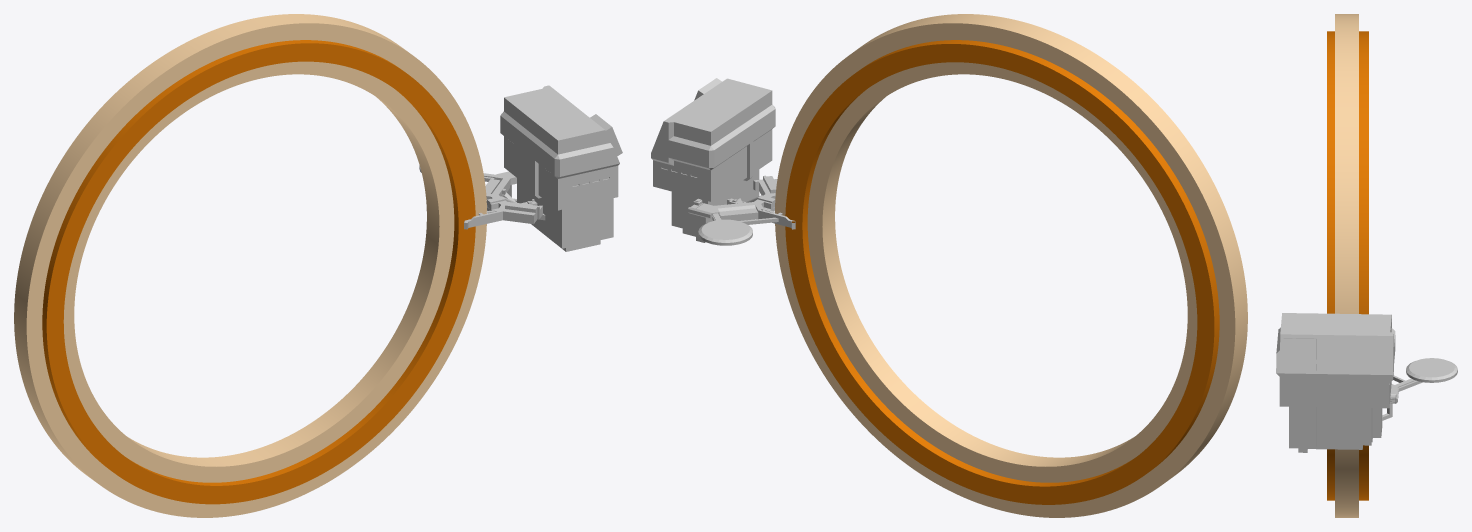
File: jumpgate.fbx
3 renders of one model, left to right at view 1: azimuth 30°, elevation 25°; view 2: azimuth 150°, elevation 25°; view 3: azimuth 270°, elevation 25°, orthographic. The views are drawn at different scales.
Parts seen in each view (by area): view 1: group_2, group_1.001, group_1; view 2: group_2, group_1.001, group_1, group_4; view 3: group_1, group_2, group_1.001, group_4.
Part boxes in pixels (x1,y1,x2,y2): group_2: [14, 14, 486, 517]; group_1.001: [42, 40, 475, 504]; group_1: [464, 85, 622, 251]; group_2: [775, 14, 1247, 517]; group_1.001: [785, 40, 1219, 504]; group_1: [651, 78, 795, 242]; group_4: [661, 167, 782, 245]; group_1: [1276, 313, 1422, 452]; group_2: [1335, 14, 1358, 517]; group_1.001: [1327, 31, 1368, 500]; group_4: [1389, 358, 1457, 384].
Bounding box in the file's own units: 1515 × 1224 × 442.
